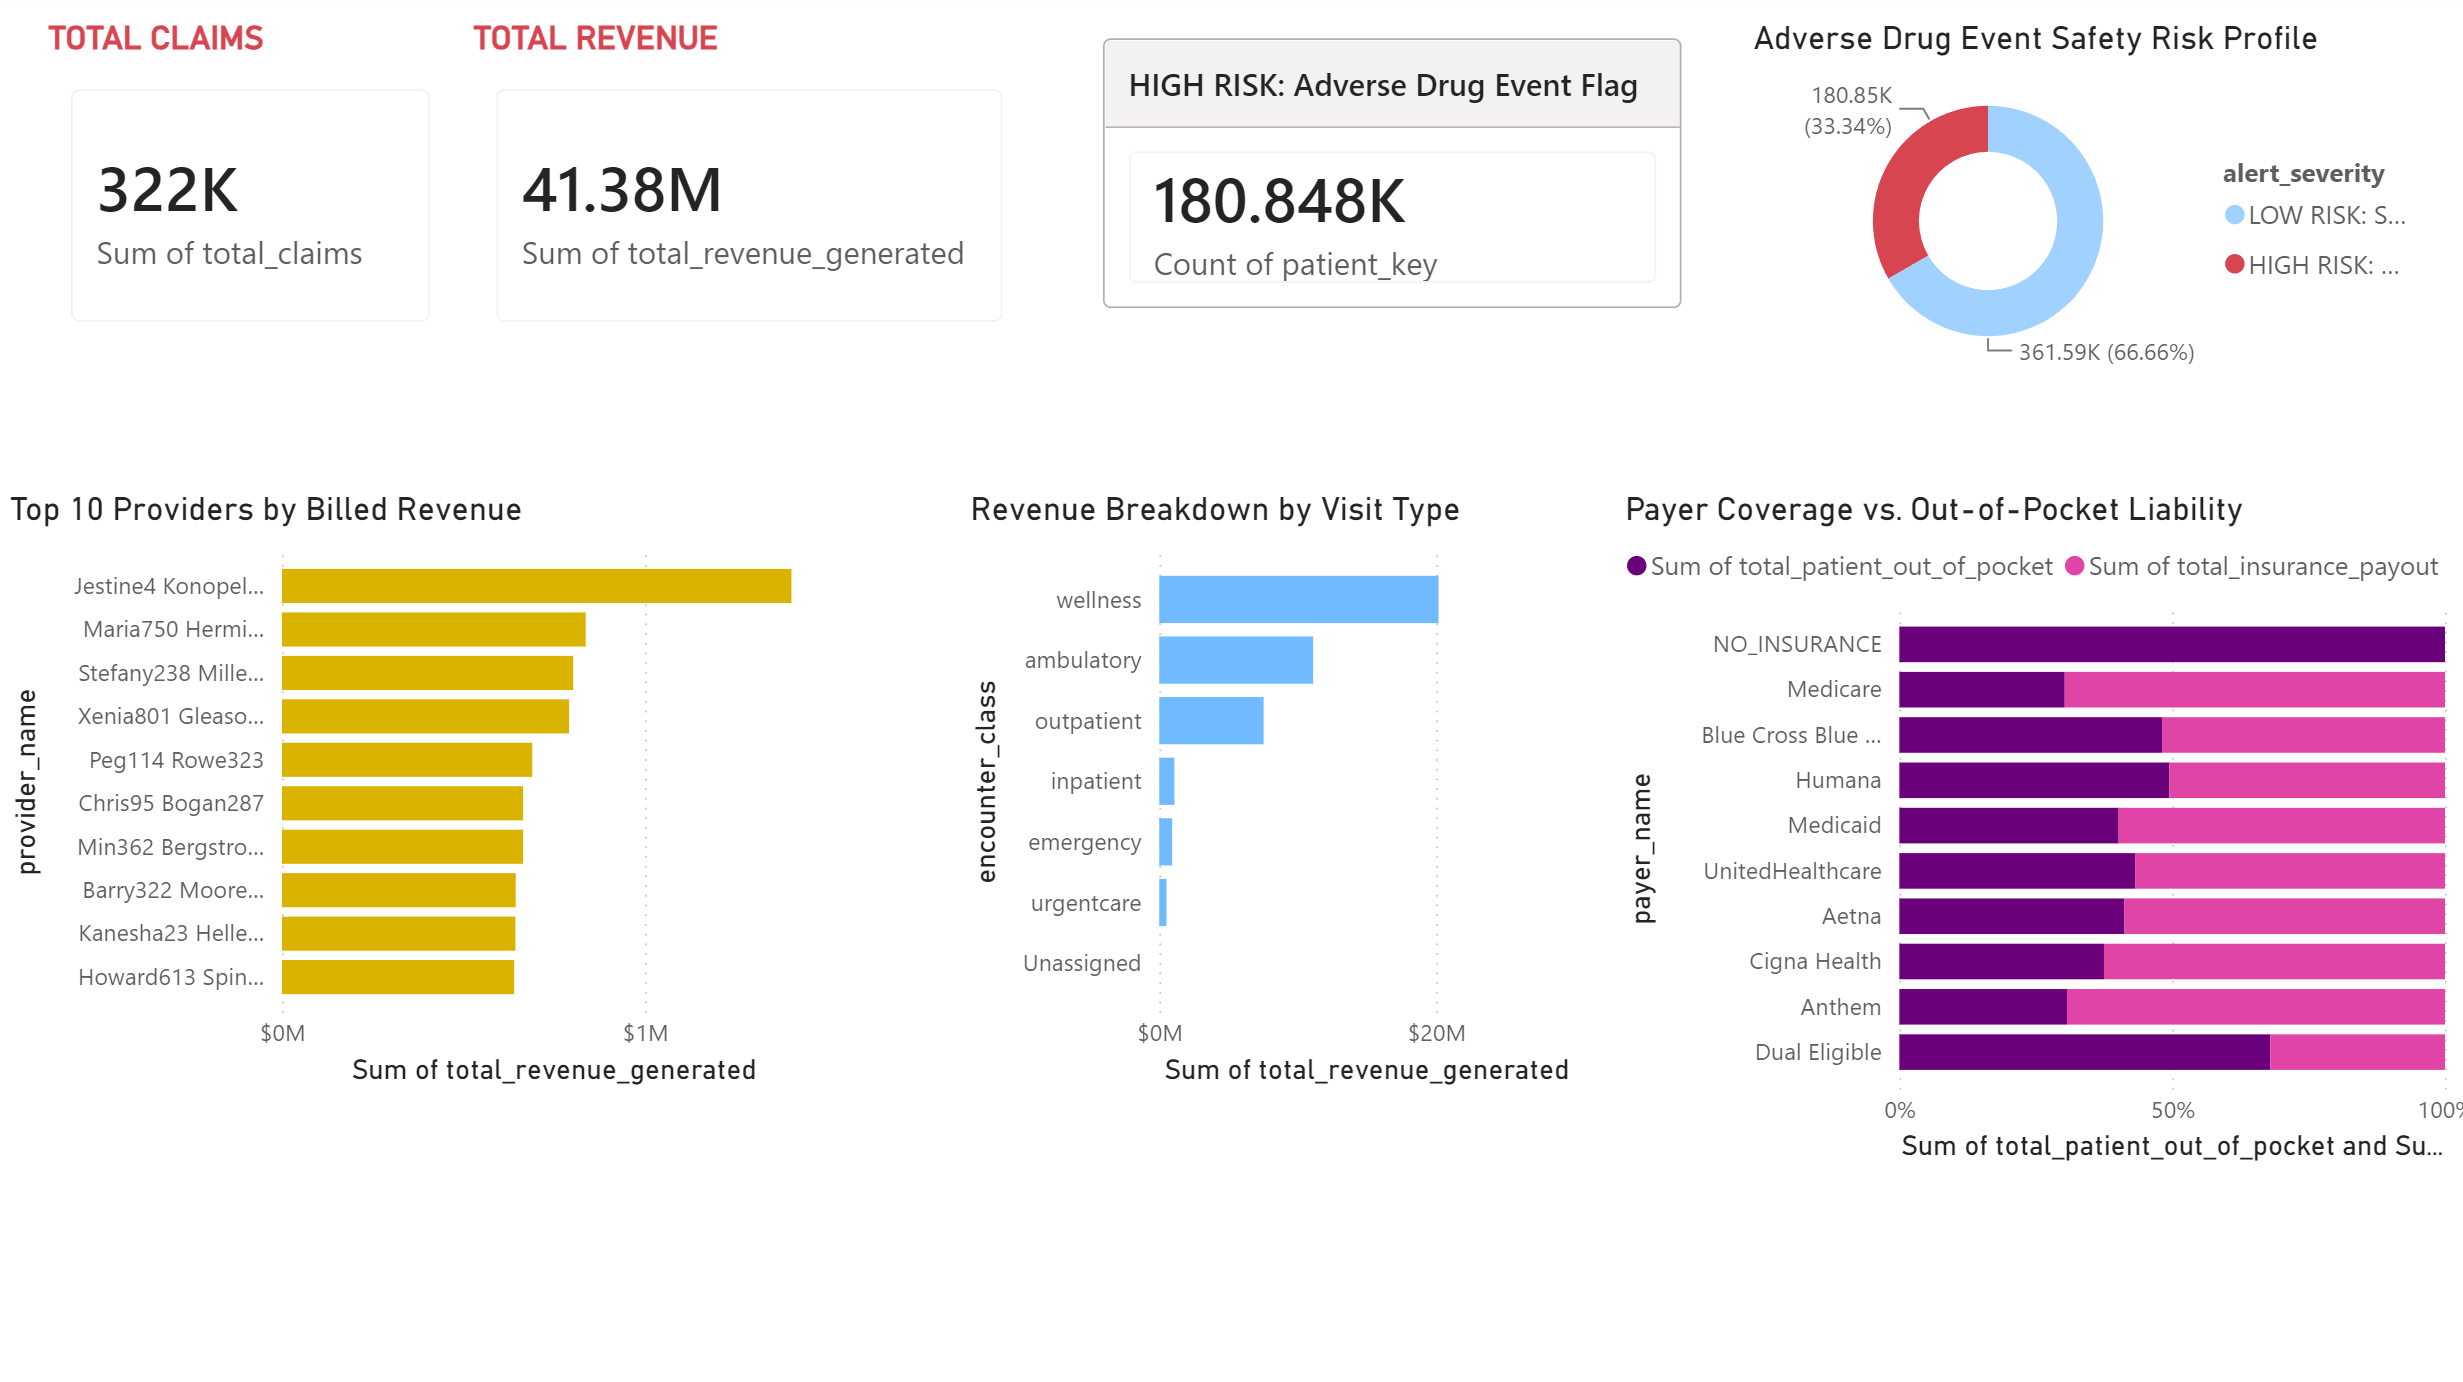

Layout of this report page (visuals, bound fields, positions):
{"tool":"powerbi","page":{"name":"Executive Safety & Operational Overview","canvas":[1280,720],"ordinal":0},"visuals":[{"type":"cardVisual","title":"TOTAL CLAIMS","fields":{"Data":["Sum(dw vw_payer_claim_leakage.total_claims)"]},"box":[19.7,15.1,219.2,174],"z":0},{"type":"cardVisual","title":"TOTAL REVENUE","fields":{"Data":["Sum(dw vw_provider_utilization_performance.total_revenue_generated)"]},"box":[238.9,15.1,295.8,174],"z":1},{"type":"cardVisual","fields":{"Data":["CountNonNull(dw vw_medication_allergy_safety_alerts.patient_key)"],"Rows":["dw vw_medication_allergy_safety_alerts.alert_severity"]},"box":[563.7,0,308.5,189.1],"z":2},{"type":"donutChart","title":"Adverse Drug Event Safety Risk Profile","fields":{"Y":["CountNonNull(dw vw_medication_allergy_safety_alerts.patient_key)"],"Category":["dw vw_medication_allergy_safety_alerts.alert_severity"]},"box":[898.9,15.1,356.1,189.1],"z":3},{"type":"clusteredBarChart","title":"Top 10 Providers by Billed Revenue","fields":{"Y":["Sum(dw vw_provider_utilization_performance.total_revenue_generated)"],"Category":["dw vw_provider_utilization_performance.provider_name"]},"box":[0,257.5,443.1,312],"z":4},{"type":"clusteredBarChart","title":"Revenue Breakdown by Visit Type","fields":{"Category":["dw vw_provider_utilization_performance.encounter_class"],"Y":["Sum(dw vw_provider_utilization_performance.total_revenue_generated)"]},"box":[495.3,257.5,337.5,312],"z":5},{"type":"hundredPercentStackedBarChart","title":"Payer Coverage vs. Out-of-Pocket Liability","fields":{"Category":["dw vw_payer_claim_leakage.payer_name"],"Y":["Sum(dw vw_payer_claim_leakage.total_patient_out_of_pocket)","Sum(dw vw_payer_claim_leakage.total_insurance_payout)"]},"box":[832.8,257.5,447.7,351.4],"z":6}]}

Visuals, with their boxes in screenshot pixels (x1, y1, x2, y2), scaled from the page's 1280x720 canvas onto the 2463x1382 screenshot:
"TOTAL CLAIMS" cardVisual: (38,29,460,363)
"TOTAL REVENUE" cardVisual: (460,29,1029,363)
cardVisual - CountNonNull(dw vw_medication_allergy_safety_alerts.patient_key) x dw vw_medication_allergy_safety_alerts.alert_severity: (1085,0,1678,363)
"Adverse Drug Event Safety Risk Profile" donutChart: (1730,29,2415,392)
"Top 10 Providers by Billed Revenue" clusteredBarChart: (0,494,853,1093)
"Revenue Breakdown by Visit Type" clusteredBarChart: (953,494,1602,1093)
"Payer Coverage vs. Out-of-Pocket Liability" hundredPercentStackedBarChart: (1602,494,2462,1169)
